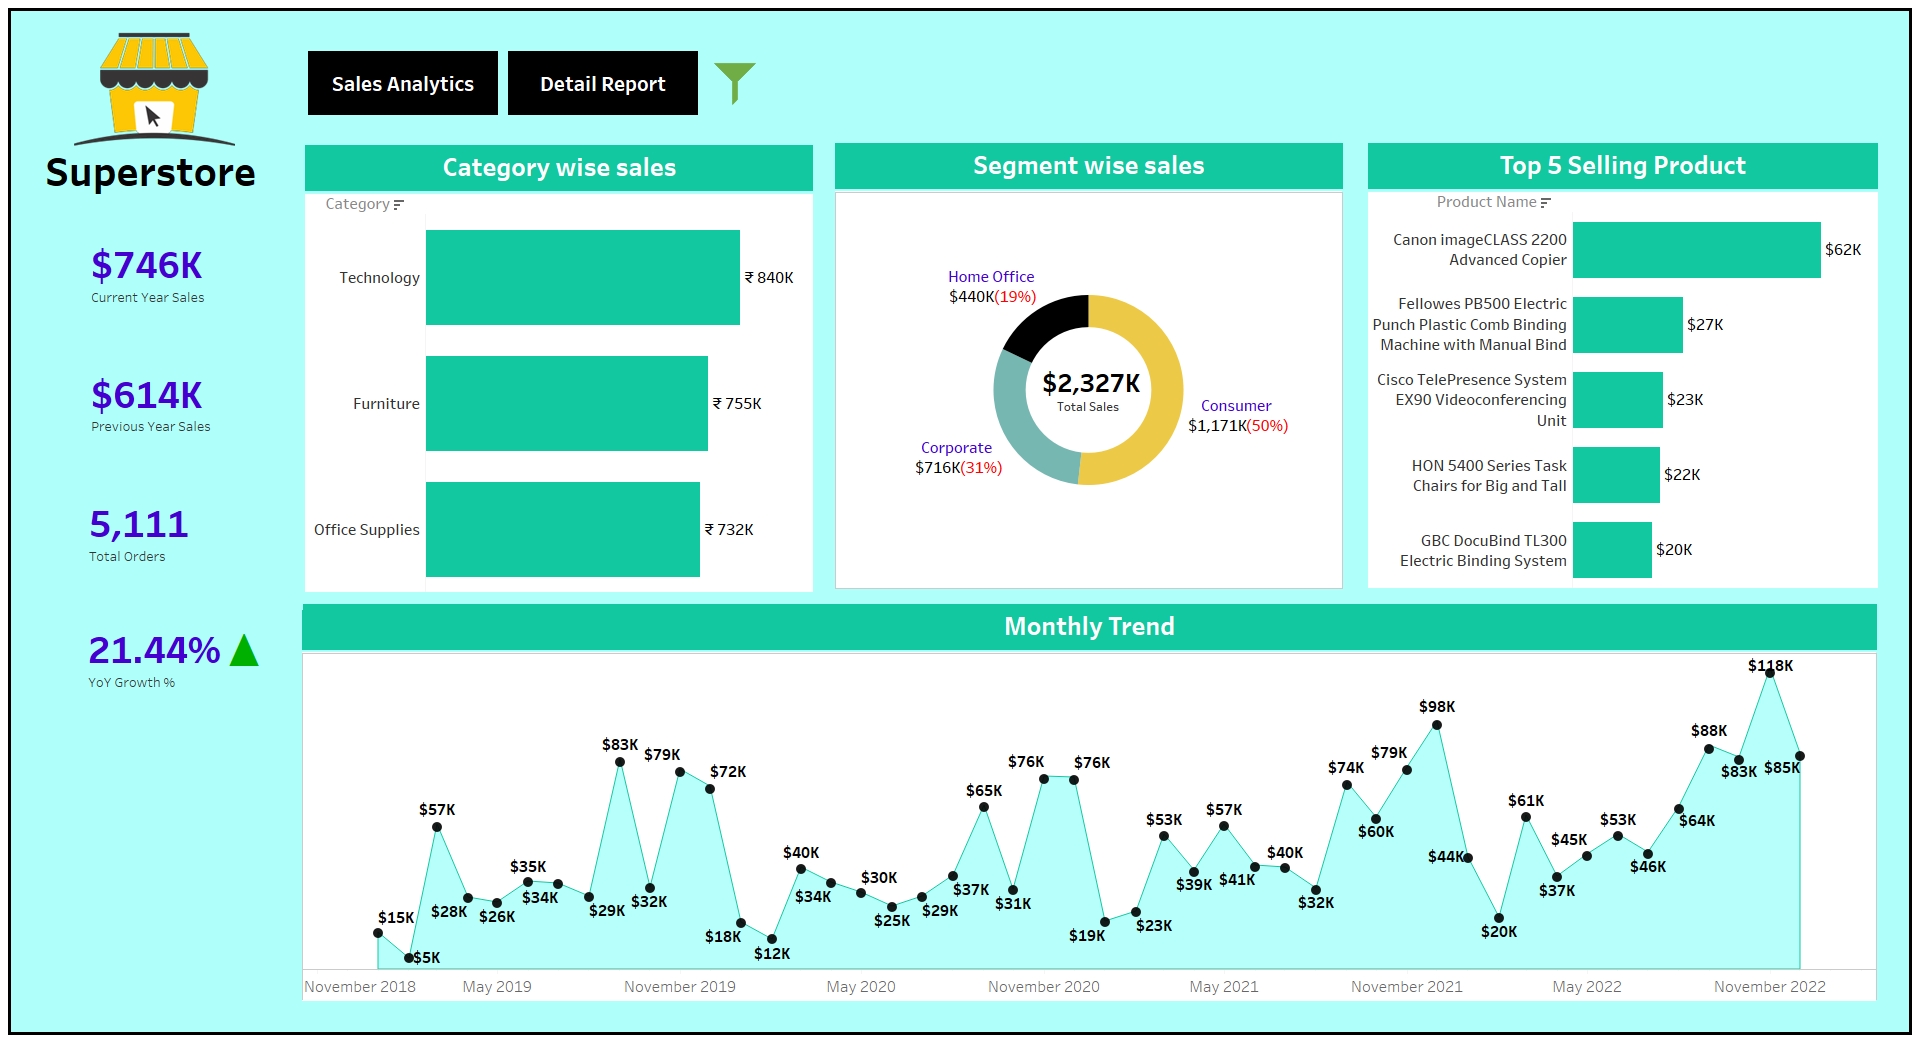

What the dashboard file says about the page in this screenshot:
{"tool":"tableau","page":{"name":"Dashboard 1","canvas":[1000,1000],"units":"permille","ordinal":0},"visuals":[{"type":"filter","title":"Monthly Trend","param":"[federated.1g08osg14x8bpp0zy9viw054i5yq].[yr:Calculation_1637621421567680516:ok]","box":[6.2,11.5,987.5,58.5]},{"type":"filter","title":"Category wise sales","param":"[federated.1g08osg14x8bpp0zy9viw054i5yq].[none:Category:nk]","box":[523.3,25.9,452.5,34.9]},{"type":"image","param":"Image/Picture1.png","box":[38.7,28.2,83.8,203.3]},{"type":"dashboard-object","box":[160.5,49.4,99,61.1]},{"type":"dashboard-object","box":[264.3,49.4,99,61.1]},{"type":"dashboard-object","box":[367.6,52.9,30.1,56.4]},{"type":"filter","title":"Category wise sales","param":"[federated.1g08osg14x8bpp0zy9viw054i5yq].[yr:Order Date:ok]","box":[523.3,60.7,452.5,34.9]},{"type":"filter","title":"Monthly Trend","param":"[federated.1g08osg14x8bpp0zy9viw054i5yq].[none:Region:nk]","box":[6.2,70,987.5,58.5]},{"type":"filter","title":"Category wise sales","param":"[federated.1g08osg14x8bpp0zy9viw054i5yq].[none:Region:nk]","box":[523.3,95.6,452.5,34.9]},{"type":"filter","title":"Monthly Trend","param":"[federated.1g08osg14x8bpp0zy9viw054i5yq].[none:Category:nk]","box":[6.2,128.5,987.5,58.5]},{"type":"text","box":[21.7,130.4,131.2,64.6]},{"type":"worksheet","title":"Segment wise sales","mark":"Pie","rows":["Calculation_2623065309712637956","Calculation_2623065309712637956"],"box":[435.1,137.5,264.3,427.7]},{"type":"worksheet","title":"Top 5 Selling Product","mark":"Automatic","rows":["Product Name"],"cols":["Sales"],"box":[712.7,137.5,265.5,426.6]},{"type":"worksheet","title":"Category wise sales","mark":"Automatic","rows":["Category"],"cols":["Sales"],"box":[158.7,138.7,264.9,428.9]},{"type":"worksheet","title":"Year Wise Sales","mark":"Automatic","box":[45.1,228,113.1,279.7]},{"type":"worksheet","title":"Total Orders","mark":"Automatic","box":[44.5,457.1,113.7,128.1]},{"type":"worksheet","title":"Monthly Trend","mark":"Area","rows":["Sales","Sales"],"cols":["Order Date"],"box":[157.5,579.3,820.2,380.7]},{"type":"worksheet","title":"YoY Growth%","mark":"Automatic","box":[43.9,596.9,113.1,158.6]}]}

Visuals, with their boxes on the dashboard's canvas, which has no fixed pixel size, in thousandths of its width and height (x1, y1, x2, y2). These are canvas units, not pixel positions in the 1919x1041 screenshot, which may show the page scaled, cropped or inside an application window:
"Monthly Trend" filter: [6,12,994,70]
"Category wise sales" filter: [523,26,976,61]
image: [39,28,122,232]
dashboard-object: [160,49,260,110]
dashboard-object: [264,49,363,110]
dashboard-object: [368,53,398,109]
"Category wise sales" filter: [523,61,976,96]
"Monthly Trend" filter: [6,70,994,128]
"Category wise sales" filter: [523,96,976,130]
"Monthly Trend" filter: [6,128,994,187]
text: [22,130,153,195]
"Segment wise sales" worksheet (Pie marks): [435,138,699,565]
"Top 5 Selling Product" worksheet: [713,138,978,564]
"Category wise sales" worksheet: [159,139,424,568]
"Year Wise Sales" worksheet: [45,228,158,508]
"Total Orders" worksheet: [44,457,158,585]
"Monthly Trend" worksheet (Area marks): [158,579,978,960]
"YoY Growth%" worksheet: [44,597,157,756]
